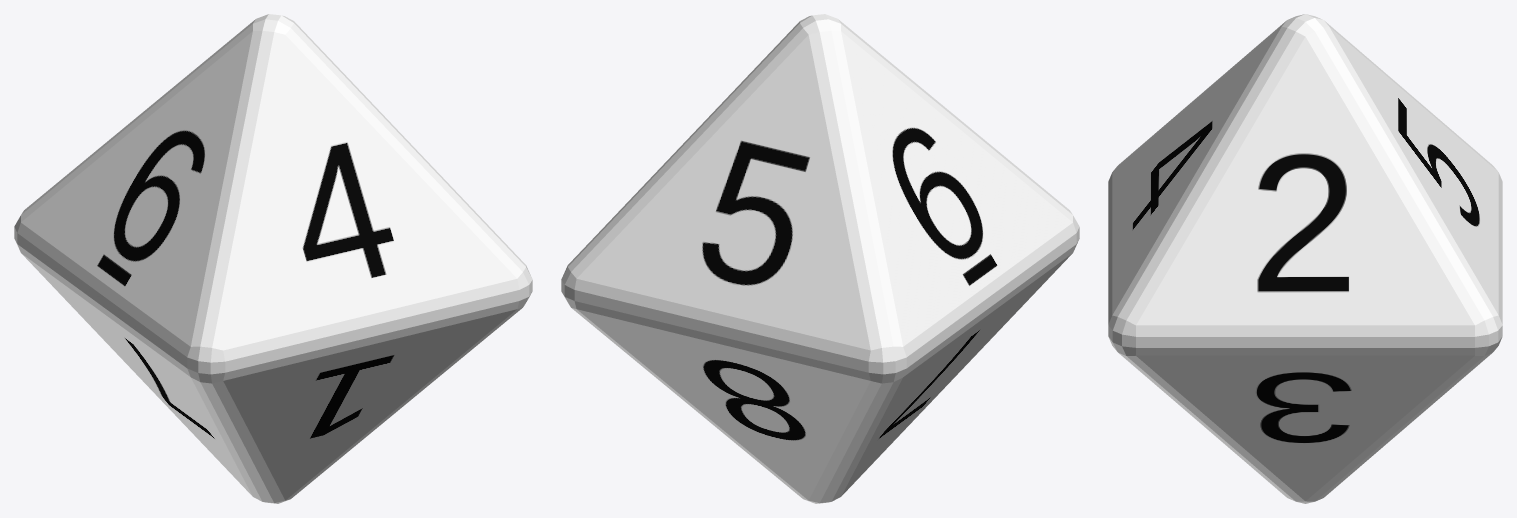
The picture shows the model from 3 angles, left to right: view 1: azimuth 30°, elevation 25°; view 2: azimuth 150°, elevation 25°; view 3: azimuth 270°, elevation 25°; orthographic projection.
Visible parts, largest first — view 1: DiceMesh; view 2: DiceMesh; view 3: DiceMesh.
Boxes of the visible parts, x1=… form: DiceMesh: x1=14, y1=14, x2=532, y2=503; DiceMesh: x1=561, y1=14, x2=1079, y2=503; DiceMesh: x1=1108, y1=14, x2=1502, y2=503.
Bounding box in the file's own units: 1.92 × 2.59 × 1.92.
1 material, 1 textured.
